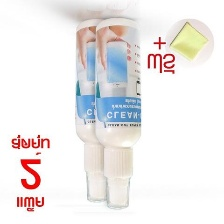cleaning_solution: (92, 15, 143, 210), (72, 17, 115, 204)
